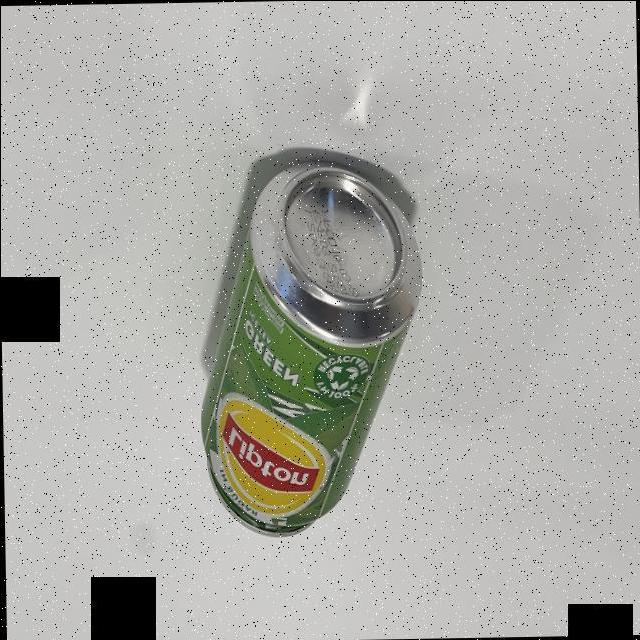can: (199, 159, 421, 536)
